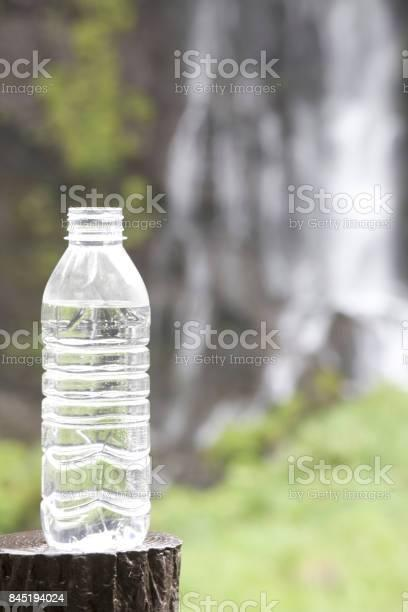plastic_bottle: (34, 199, 158, 552)
